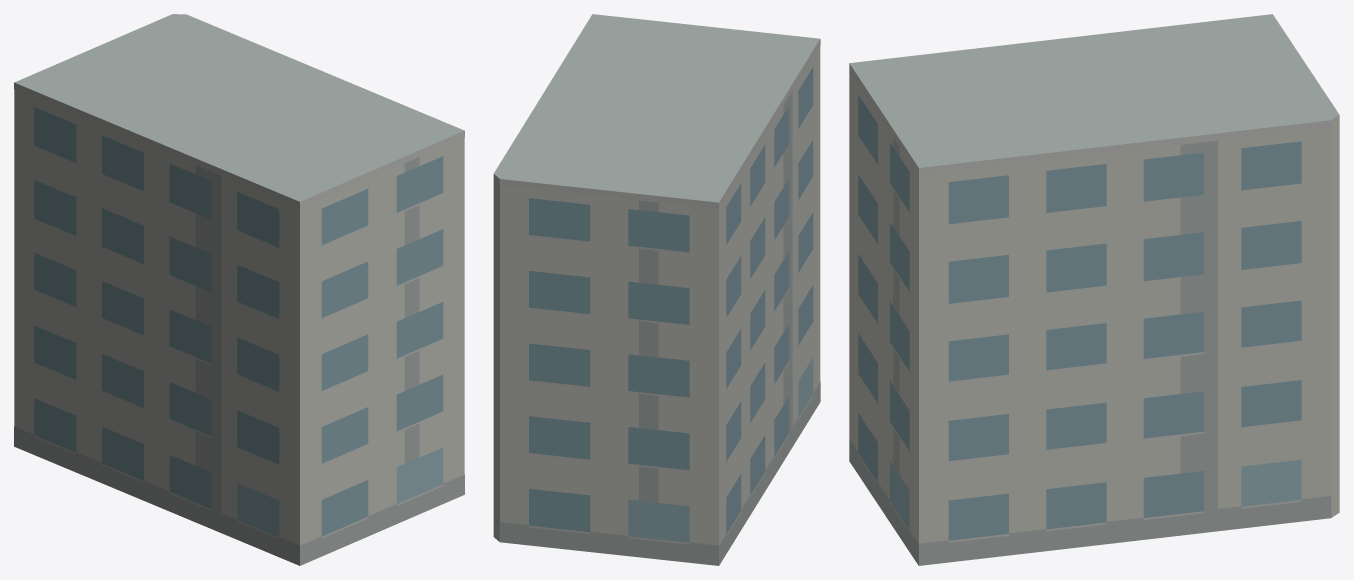
File: survey-upis-32956738.glb
The picture shows the model from 3 angles, left to right: view 1: azimuth 30°, elevation 25°; view 2: azimuth 150°, elevation 25°; view 3: azimuth 270°, elevation 25°; orthographic projection. The views are drawn at different scales.
Visible parts, largest first — view 1: survey-upis-32956738.tmp; view 2: survey-upis-32956738.tmp; view 3: survey-upis-32956738.tmp.
Part boxes in pixels (left/top/right/bottom): survey-upis-32956738.tmp: left=14, top=14, right=464, bottom=565; survey-upis-32956738.tmp: left=493, top=14, right=820, bottom=565; survey-upis-32956738.tmp: left=849, top=14, right=1339, bottom=565.
Size of the model in its own units: 11.01 by 13.25 by 14.81.
